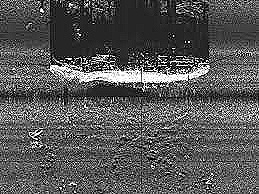ship: (48, 50, 212, 89)
